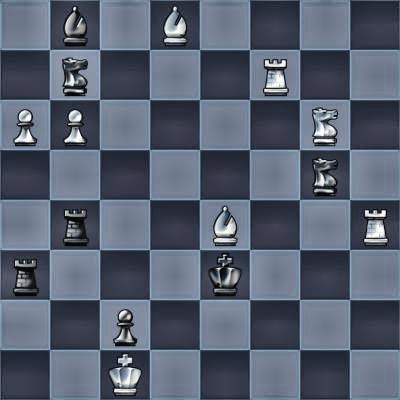black-bishop: (50, 0, 100, 50)
black-king: (200, 250, 250, 300)
black-knight: (50, 50, 100, 100), (300, 150, 350, 200)
black-pawn: (100, 300, 150, 350)
black-rook: (50, 200, 100, 250), (0, 250, 50, 300)
white-bishop: (150, 0, 200, 50), (200, 200, 250, 250)
white-king: (100, 350, 150, 400)
white-knight: (300, 100, 350, 150)
white-pawn: (0, 100, 50, 150), (50, 100, 100, 150)
white-rook: (250, 50, 300, 100), (350, 200, 400, 250)
